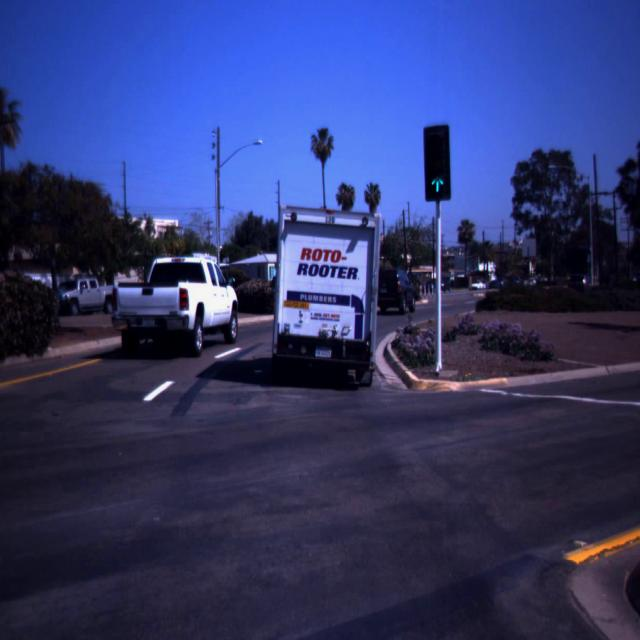yesil: (423, 127, 452, 201)
